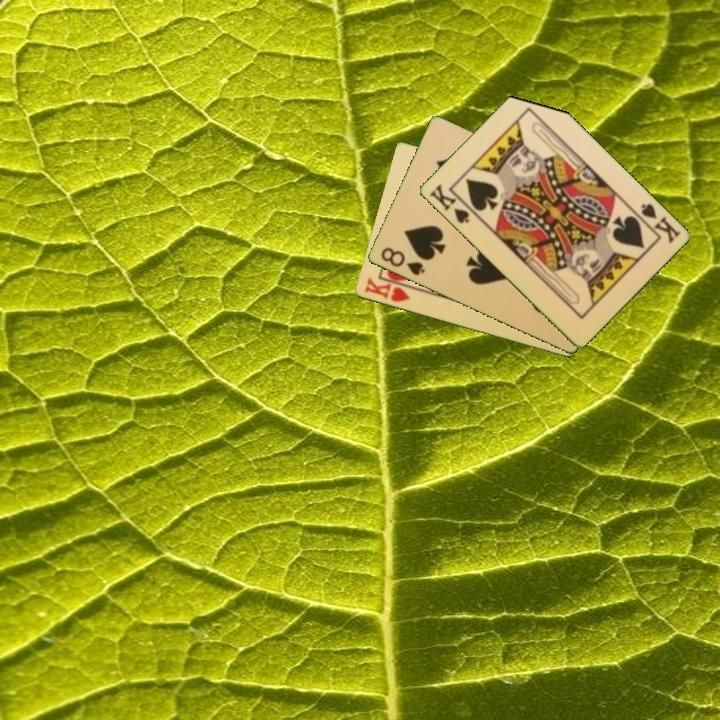8s: (377, 244, 428, 279)
Kh: (361, 274, 419, 305)
Ks: (631, 200, 683, 246), (425, 181, 478, 226)
